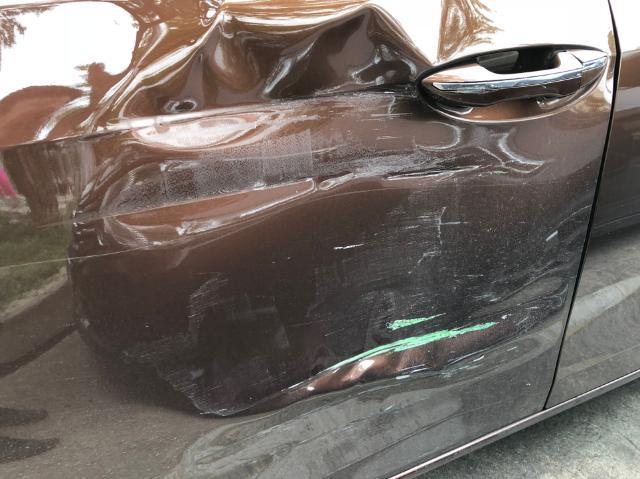Door: (46, 0, 540, 479)
